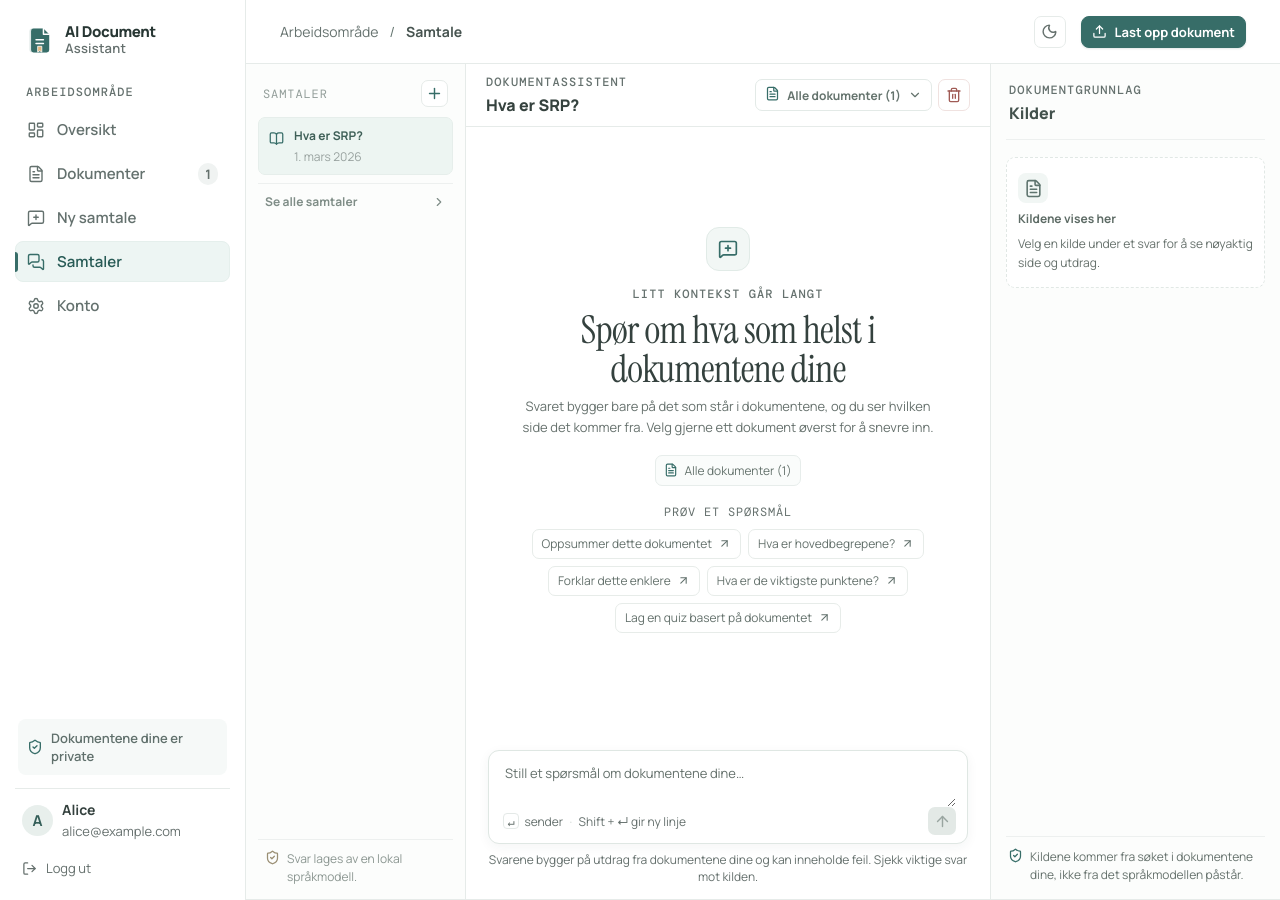
Test: asking questions › keeps the question in the box and shows the error when the language model is down
This screenshot has width=1280, height=900.
Type "Hva er SRP?" into the text box labelled "spørsmål".
click(730, 784); type("Hva er SRP?")  # box left=503, top=761, right=956, bottom=807
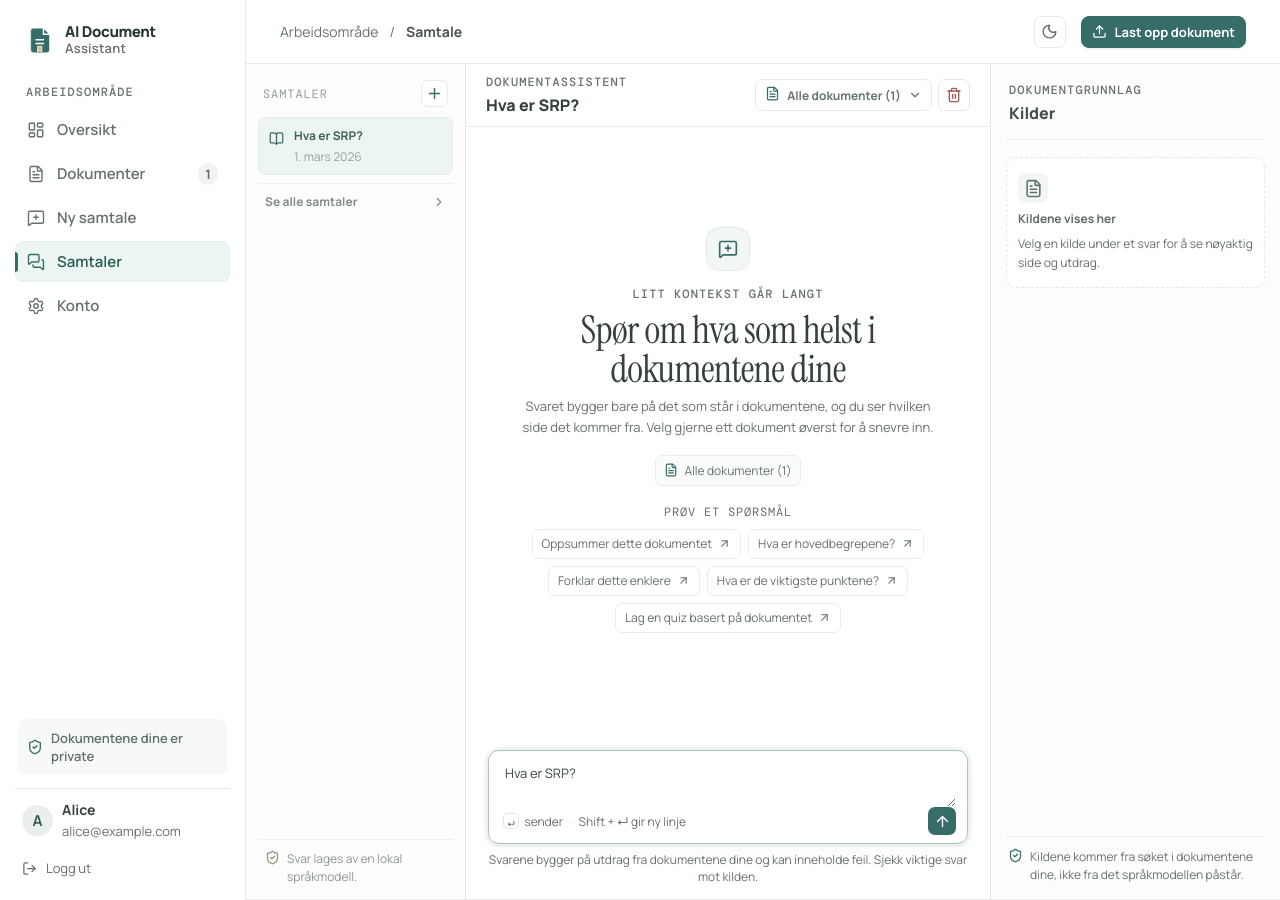
Click the button named "Send".
click(942, 821)  # box left=928, top=807, right=956, bottom=835
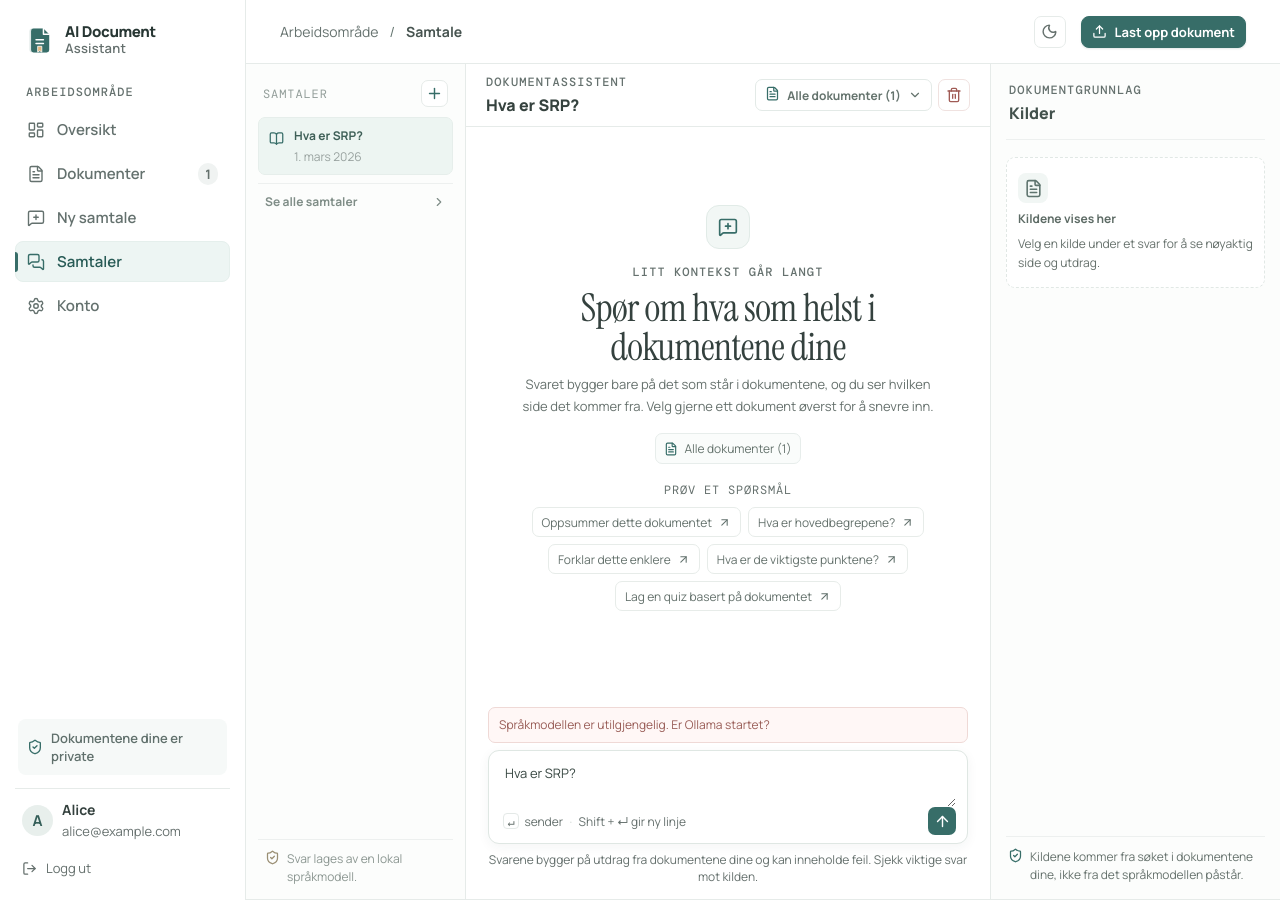
Expected: the message shows "Språkmodellen er utilgjengelig", left=499, top=716, right=770, bottom=733
